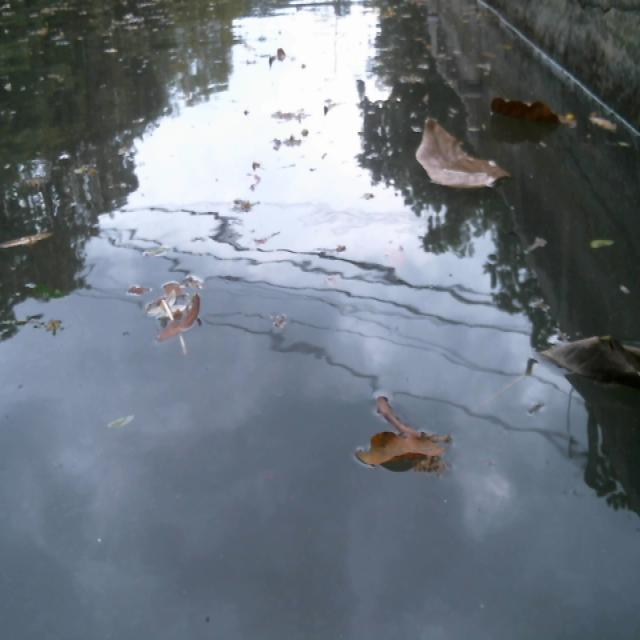Big-leaf: (520, 313, 640, 405), (410, 110, 510, 202), (486, 86, 584, 141), (354, 426, 448, 479)
Small-leaf: (144, 287, 210, 347), (369, 382, 434, 441), (0, 306, 66, 341), (0, 227, 62, 247), (589, 108, 622, 141), (18, 171, 53, 196), (263, 45, 292, 73), (270, 305, 290, 337), (72, 159, 100, 181)
